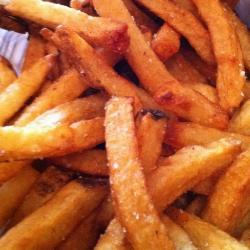fries: (10, 9, 229, 246)
